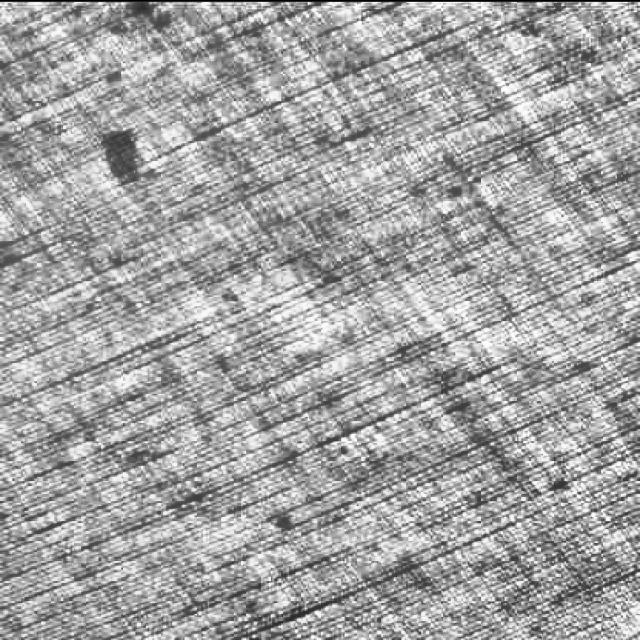oil_spot: (91, 112, 154, 196)
